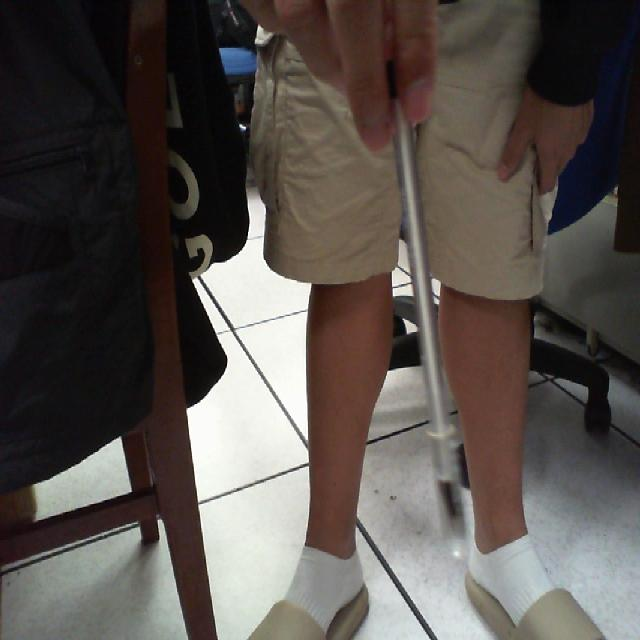Pen: (363, 34, 494, 582)
